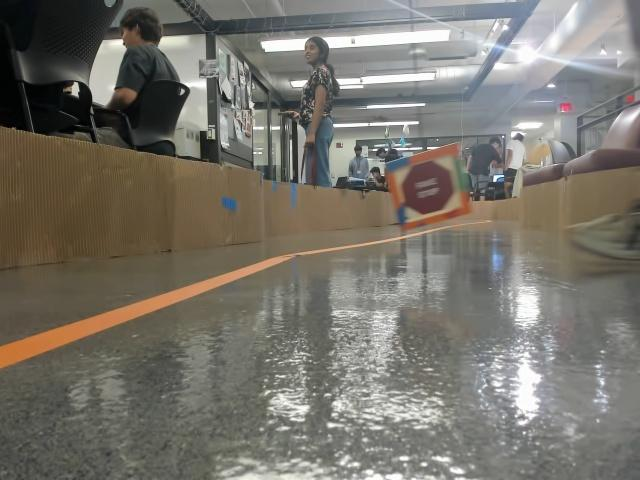Fake Stop: (395, 168, 448, 219)
